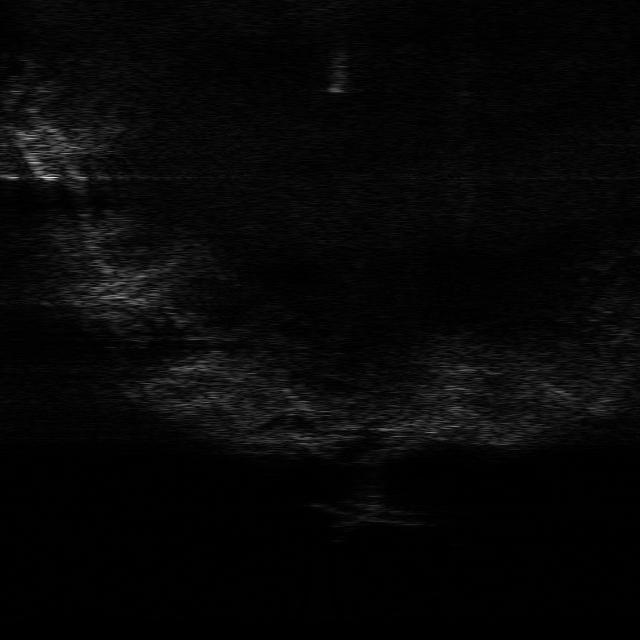plane: (306, 499, 422, 528)
